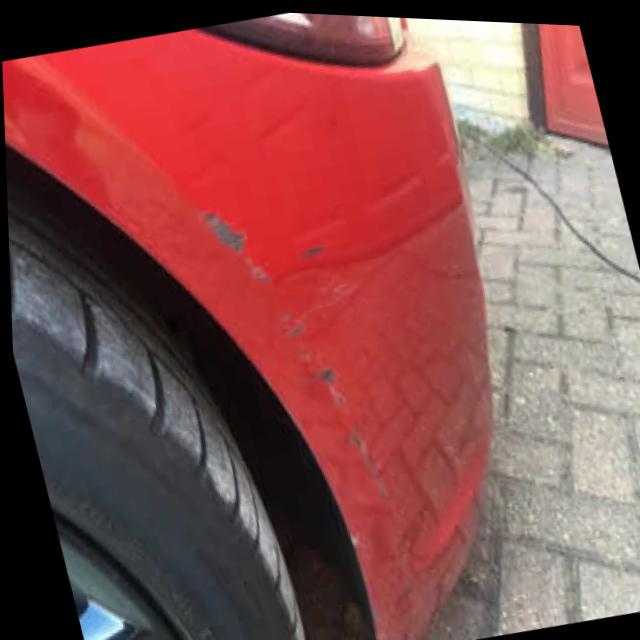Scratch: (191, 181, 389, 512)
